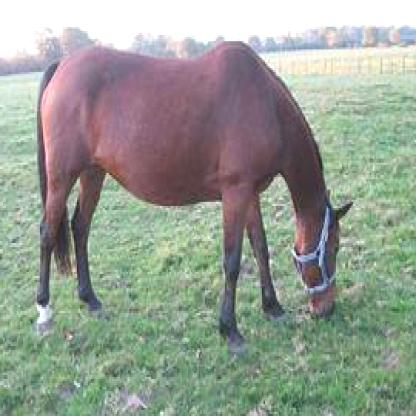horse: (32, 41, 354, 346)
